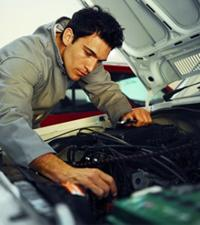person: (1, 6, 155, 197)
